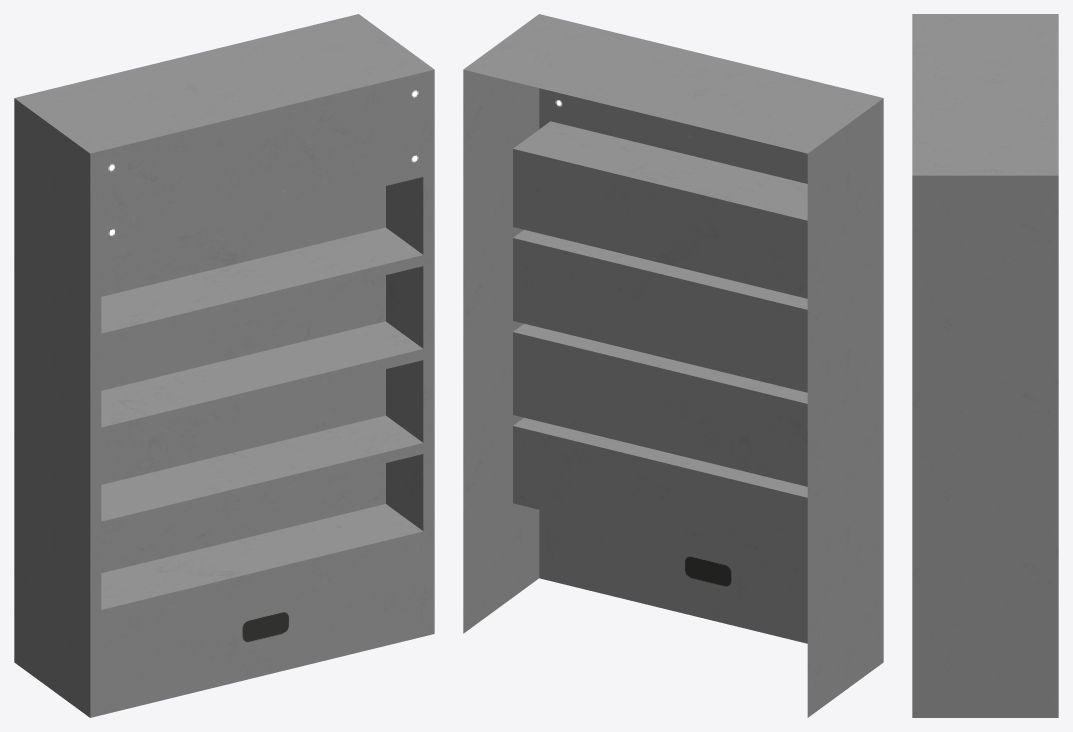
The model's file is Libreria_dor_text.fbx.
The picture shows the model from 3 angles, left to right: view 1: azimuth 30°, elevation 25°; view 2: azimuth 150°, elevation 25°; view 3: azimuth 270°, elevation 25°; orthographic projection. The views are drawn at different scales.
Visible parts, largest first — view 1: Libreria; view 2: Libreria; view 3: Libreria.
Boxes of the visible parts, x1,y1,x2,y2 form: Libreria: (14, 14, 434, 717); Libreria: (463, 14, 883, 717); Libreria: (912, 14, 1058, 717).
Bounding box in the file's own units: 132 × 207 × 50.41.
Materials: 1 (1 with a texture image).
